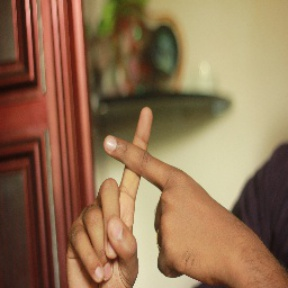X: (76, 93, 205, 231)
